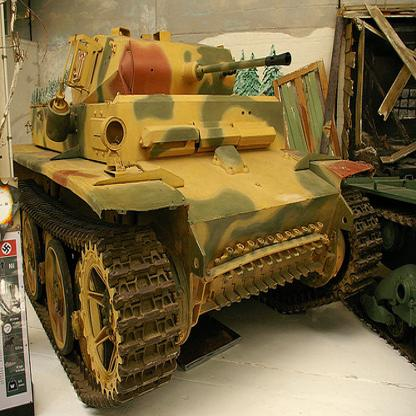Tank: (14, 31, 389, 404)
